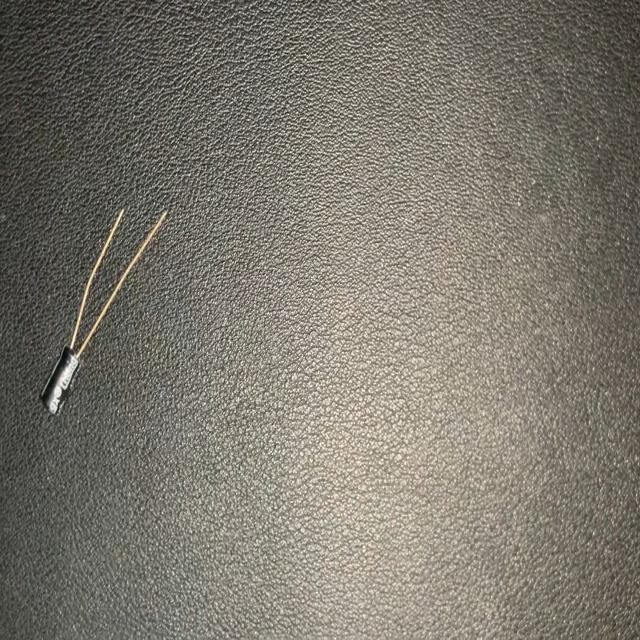capacitor: (42, 206, 168, 418)
